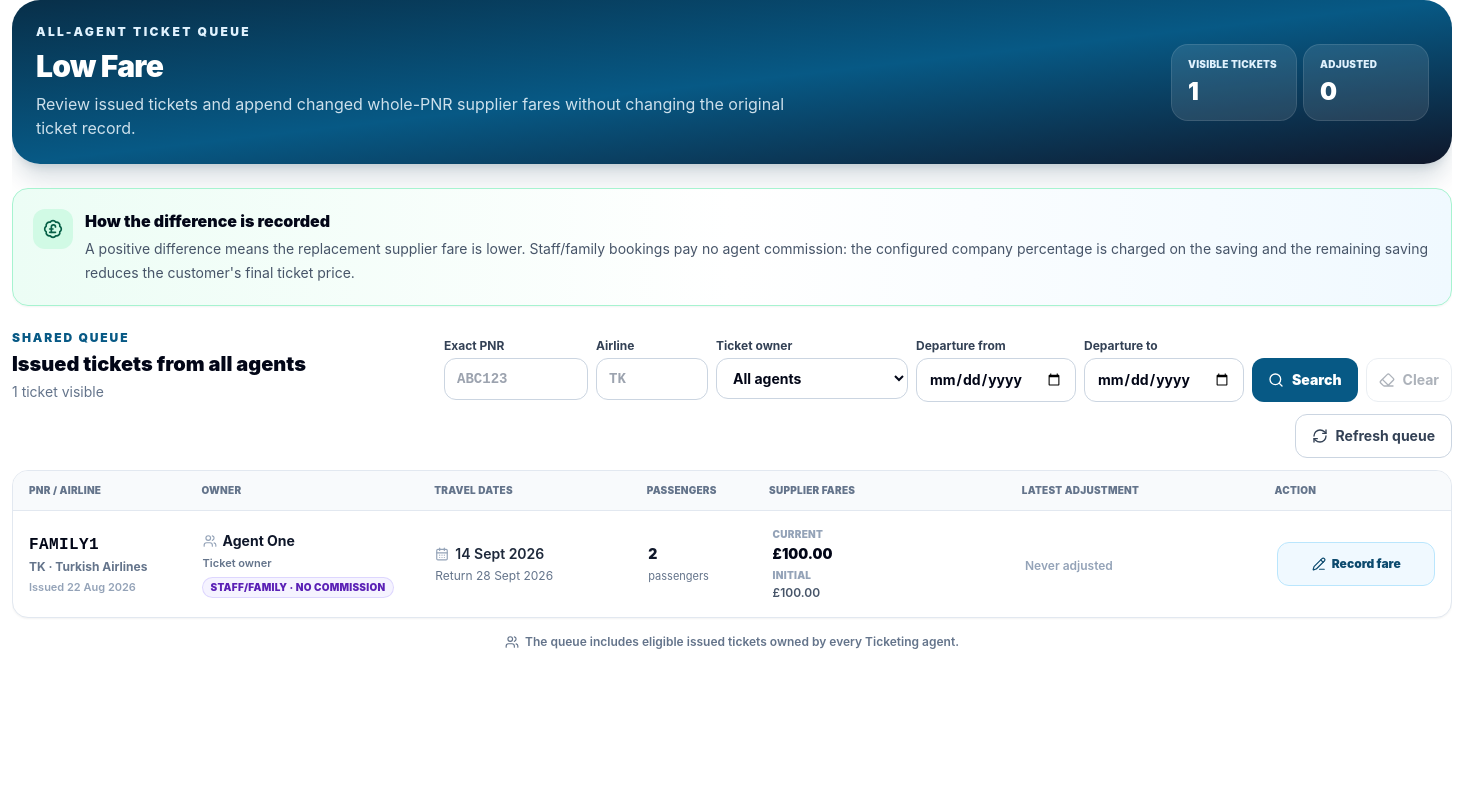
LowFareClient › shows £79 as the final staff/family price for a £70 fare and 30% company fee
Expected: the text "FAMILY1" is shown, [29, 536, 99, 554]
Step 1. Click the button with aria-label "Record fare for FAMILY1" → (1356, 564), box [1277, 542, 1435, 586]
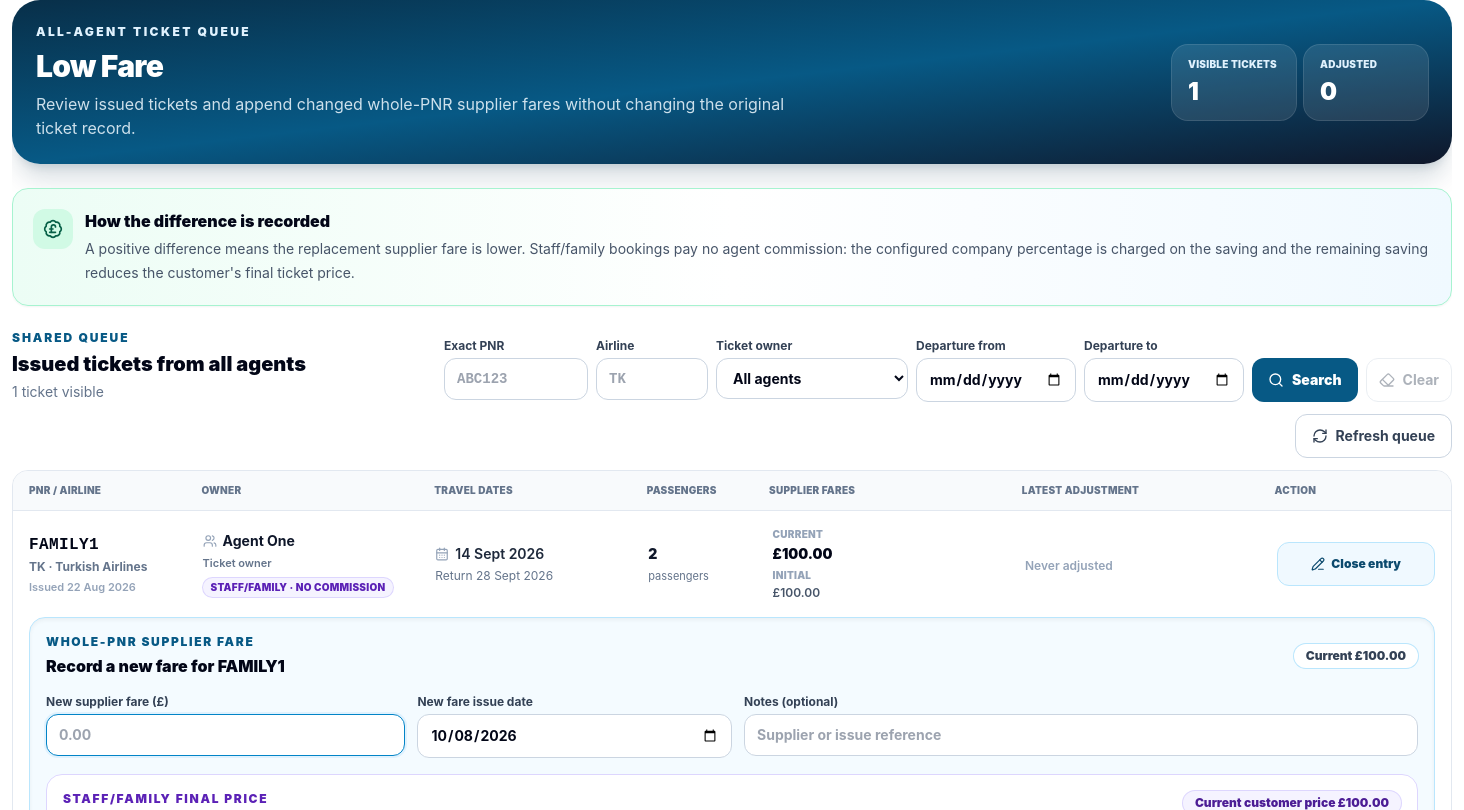
Step 2. Type "70.00" into the field named "New supplier fare for FAMILY1" → (226, 735), box [46, 714, 406, 756]
(page scrolled)
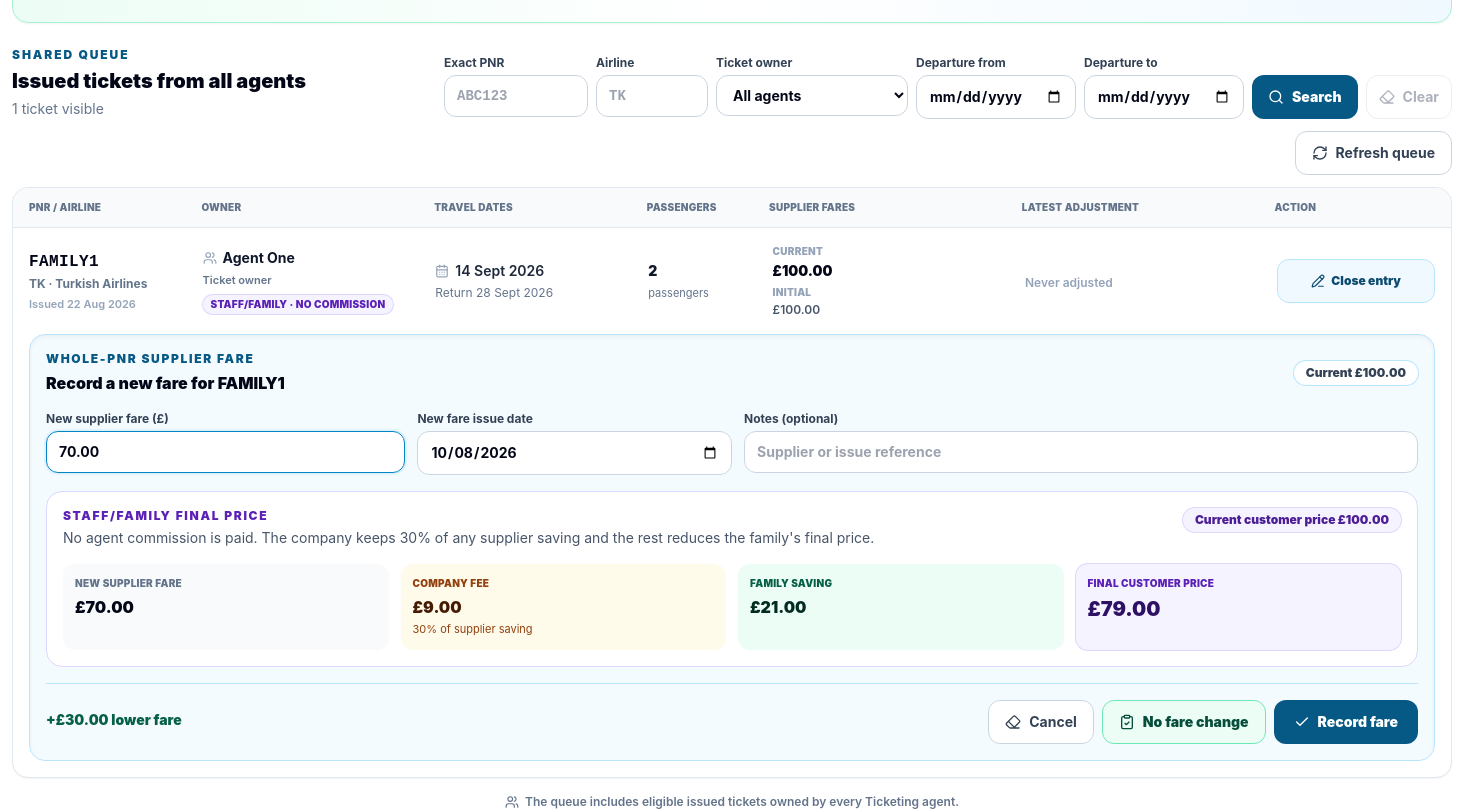
Expected: the text "£9.00" is shown, [412, 597, 462, 617]
Expected: the text "£21.00" is shown, [750, 597, 806, 617]
Expected: the text "£79.00" is shown, [1088, 597, 1160, 621]
